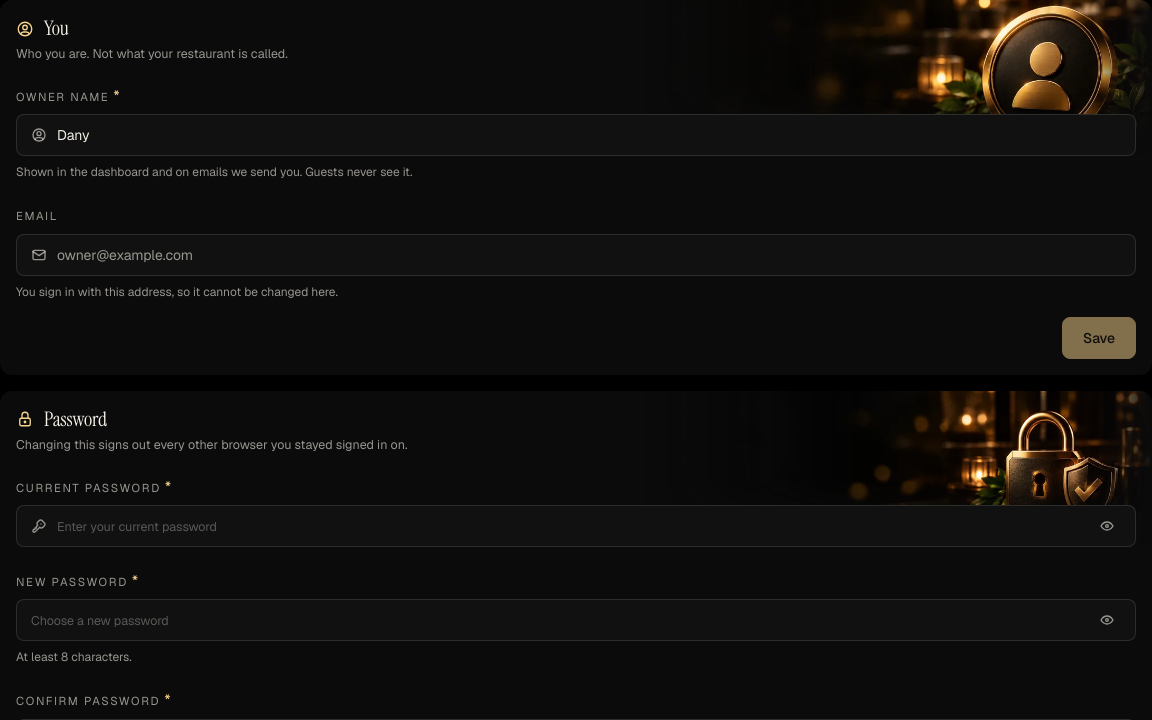
Test case: AccountPage › saves a new name
Type " S" into the field labelled "Owner name*" at (594, 135), box [53,115,1135,155]
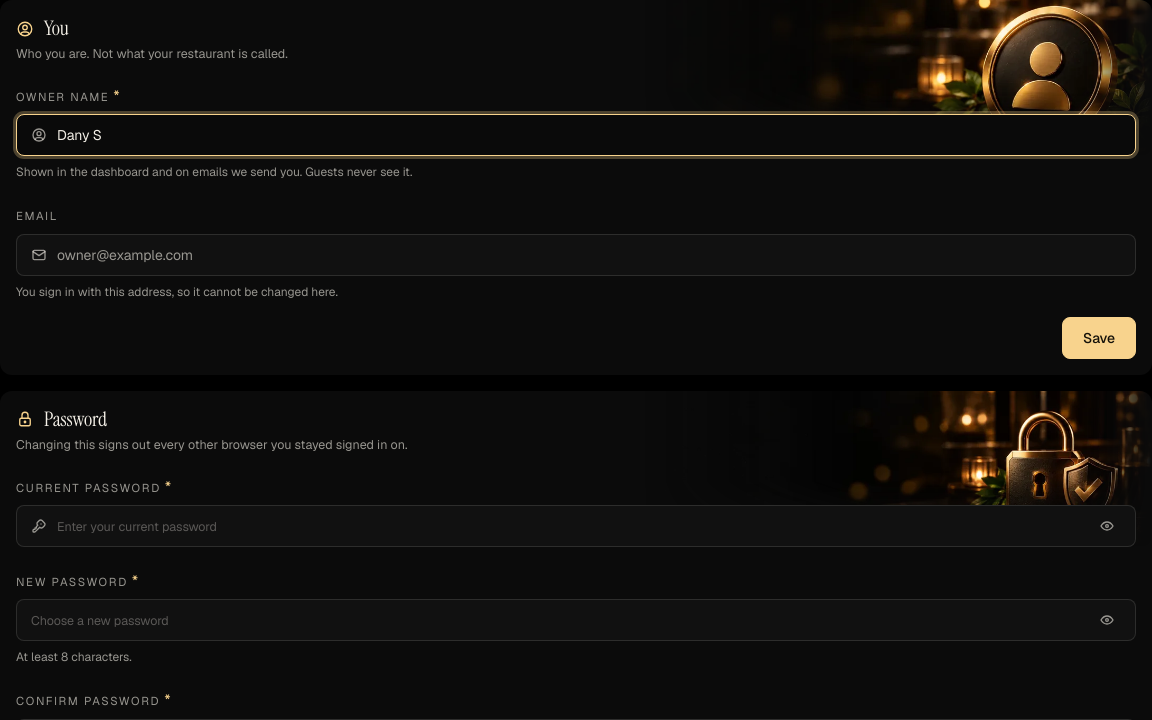
Click the button "Save" at (1099, 338), box [1062,317,1136,359]
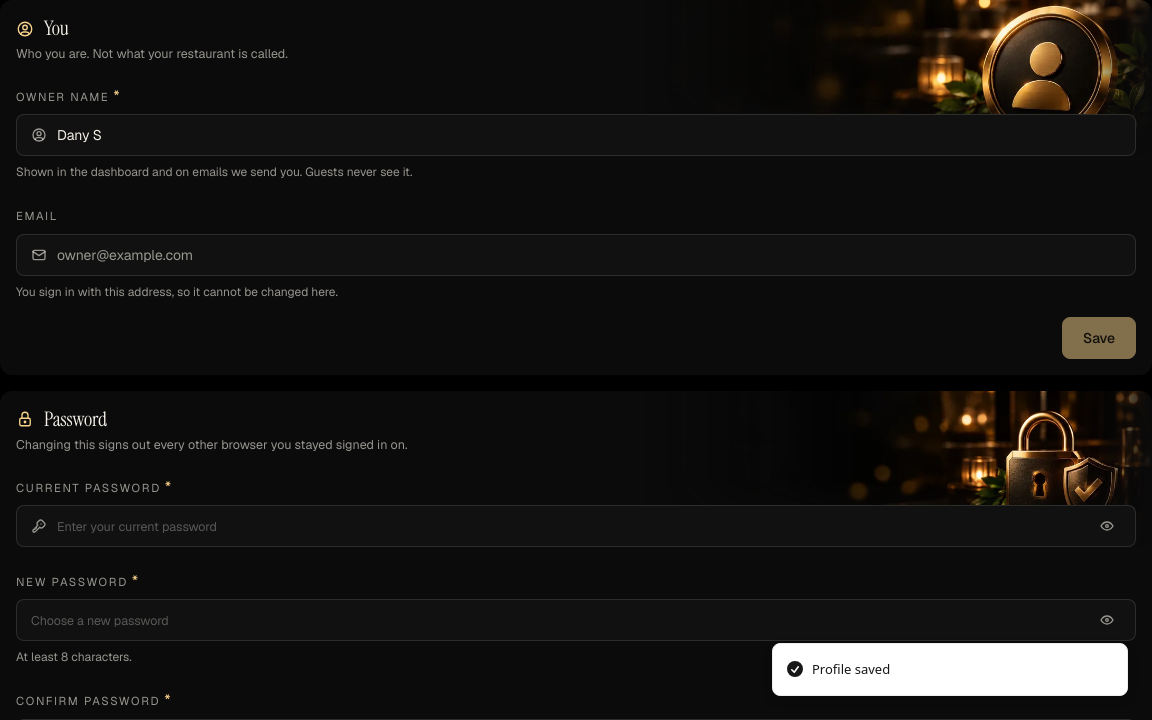
Result: the text "Profile saved" is shown at [812,660,890,679]
